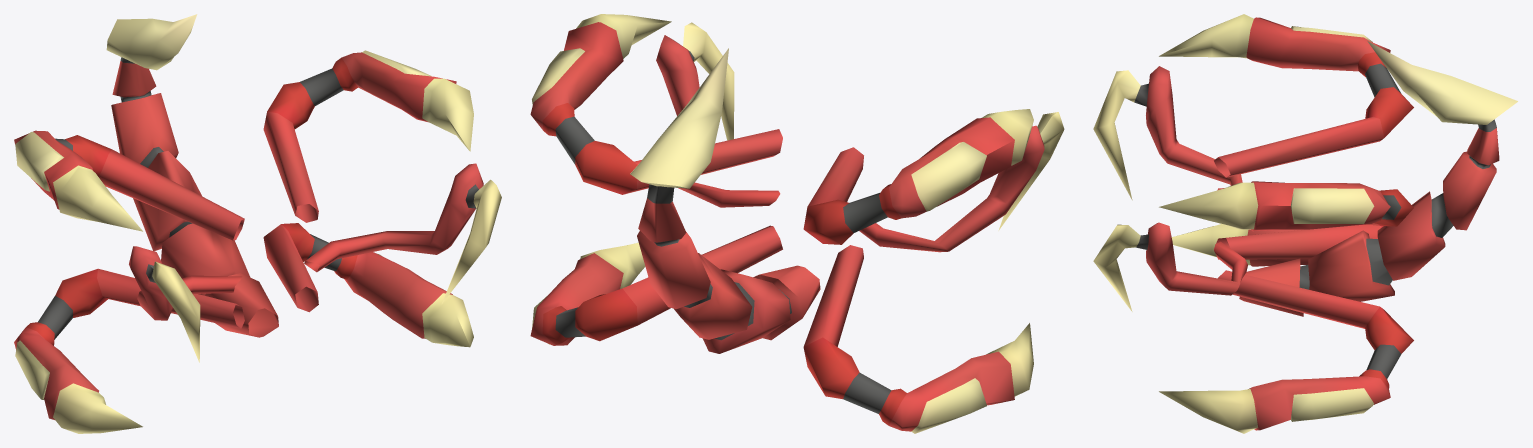
The picture shows the model from 3 angles, left to right: view 1: azimuth 30°, elevation 25°; view 2: azimuth 150°, elevation 25°; view 3: azimuth 270°, elevation 25°; orthographic projection. The views are drawn at different scales.
Parts seen in each view (by area): view 1: lv24; view 2: lv24; view 3: lv24.
Boxes of the visible parts, left/top/right/bottom form: lv24: left=14, top=14, right=501, bottom=433; lv24: left=530, top=14, right=1064, bottom=433; lv24: left=1093, top=14, right=1517, bottom=433.
Bounding box in the file's own units: 139 × 107 × 133.
